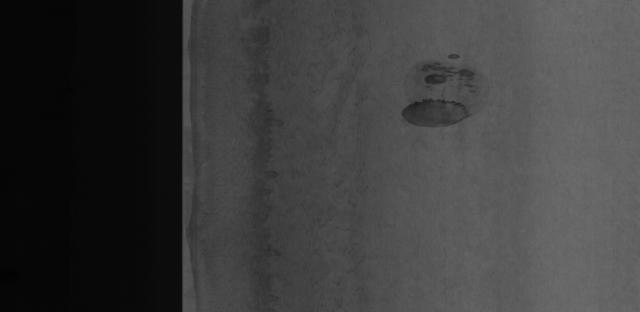oil_spot: (399, 43, 493, 131)
silk_spot: (238, 10, 375, 300)
